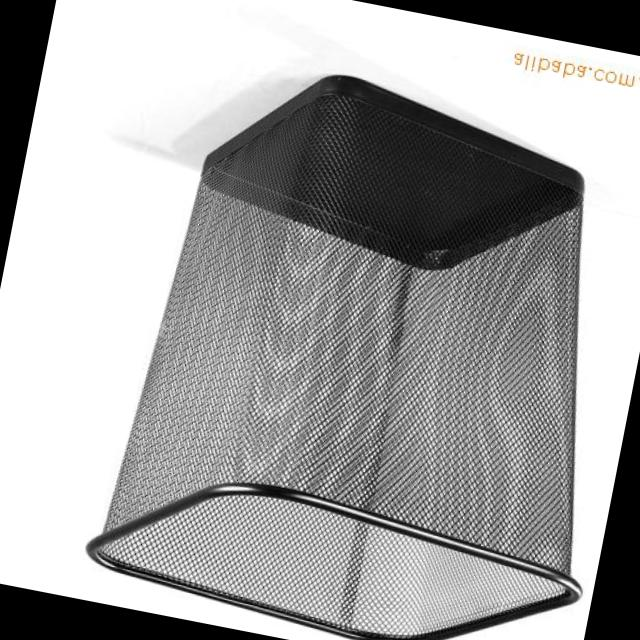dustbin: (78, 42, 640, 640)
